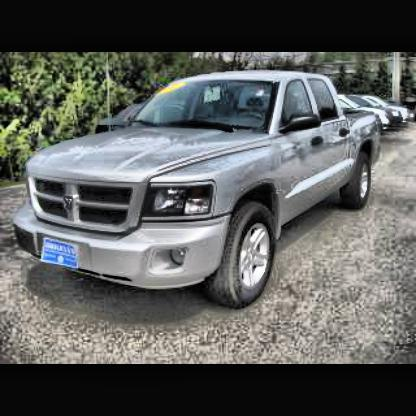Dodge Dakota Crew Cab 2010: (16, 73, 387, 314)
